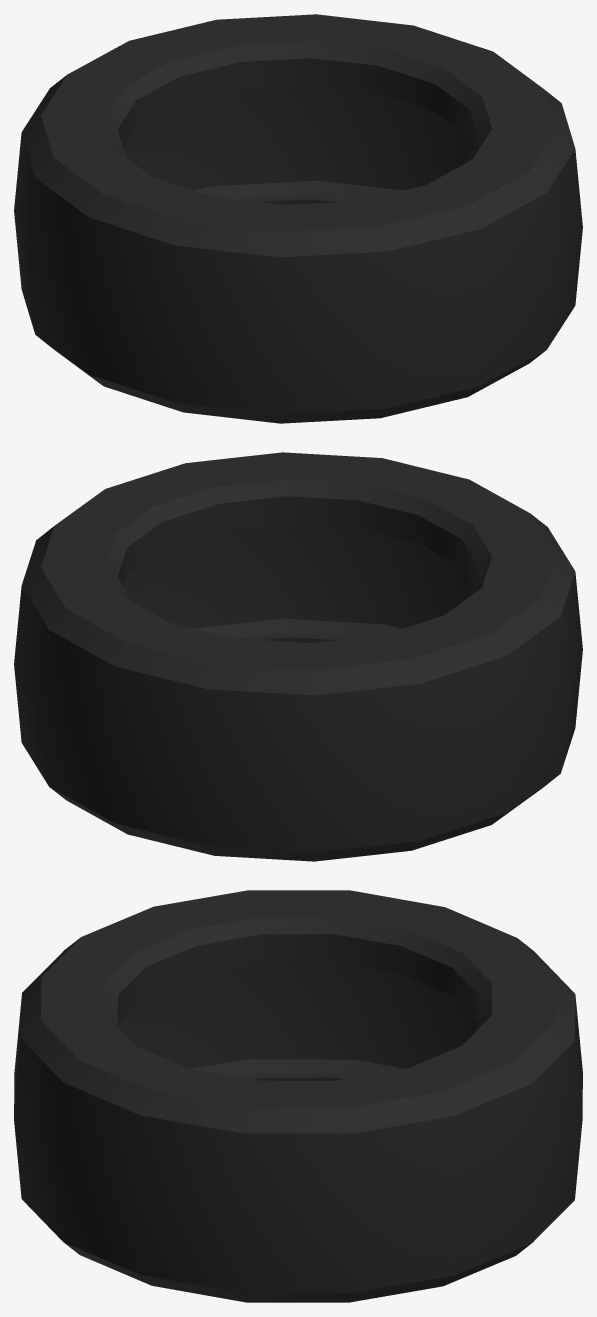
The model's file is Wheel_01.fbx.
3 renders of one model, top to bottom at view 1: azimuth 30°, elevation 25°; view 2: azimuth 150°, elevation 25°; view 3: azimuth 270°, elevation 25°, orthographic.
Parts seen in each view (by area): view 1: Wheel_01; view 2: Wheel_01; view 3: Wheel_01.
Boxes of the visible parts, <box> form: Wheel_01: <box>14,14,582,423</box>; Wheel_01: <box>14,452,582,861</box>; Wheel_01: <box>14,890,582,1302</box>.
Size of the model in its own units: 83.83 by 31.67 by 83.83.
